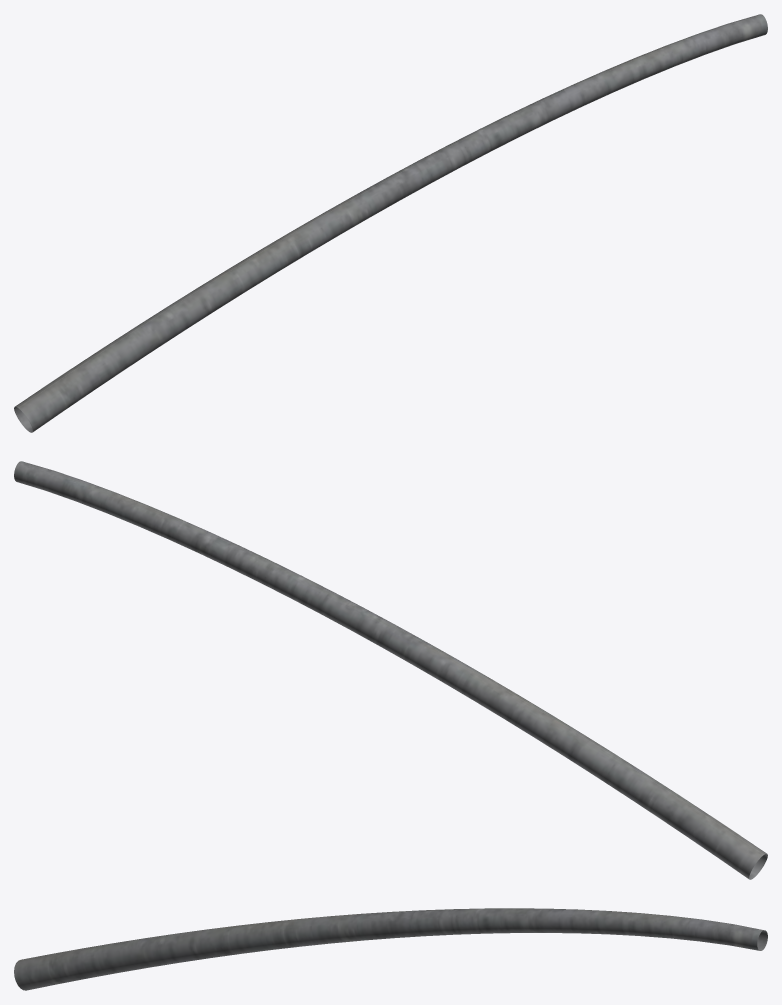
File: armRise0-v1-galvanised.glb
3 renders of one model, top to bottom at view 1: azimuth 30°, elevation 25°; view 2: azimuth 150°, elevation 25°; view 3: azimuth 330°, elevation 25°, orthographic.
Parts seen in each view (by area): view 1: armRise0-v1-galvanised; view 2: armRise0-v1-galvanised; view 3: armRise0-v1-galvanised.
Boxes of the visible parts, <box> form: armRise0-v1-galvanised: <box>14,14,767,432</box>; armRise0-v1-galvanised: <box>14,461,767,879</box>; armRise0-v1-galvanised: <box>14,908,767,990</box>.
Bounding box in the file's own units: 4.6 × 1.4 × 0.1683.
1 material, 1 textured.
